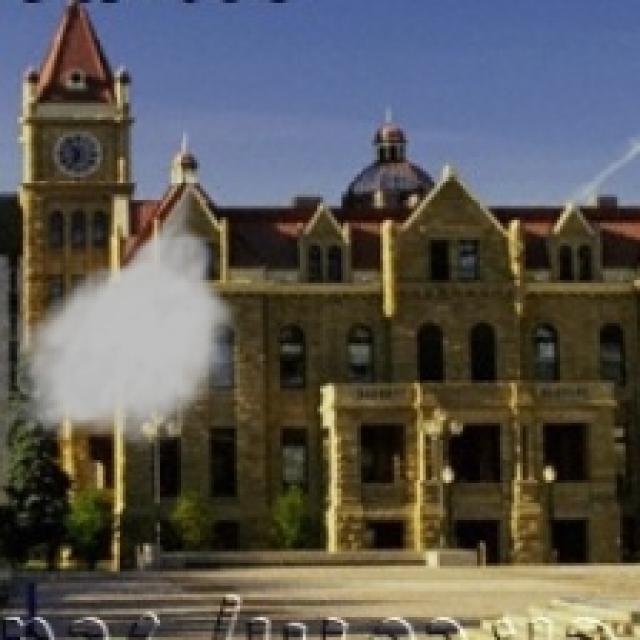smoke: (3, 177, 243, 452)
